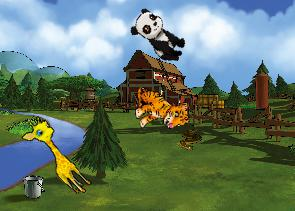giraffe: (17, 112, 101, 198)
panda: (126, 5, 192, 67)
tiger: (131, 82, 190, 133)
